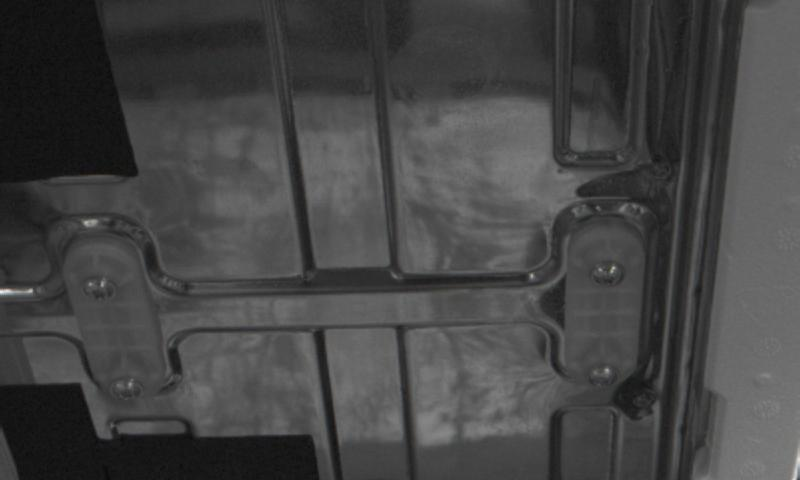vida-ok: (588, 251, 631, 296), (81, 267, 121, 312), (106, 369, 148, 409), (584, 356, 624, 394)
